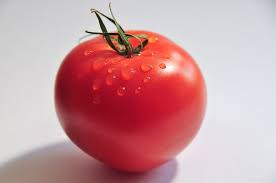tomato: (55, 32, 207, 172)
